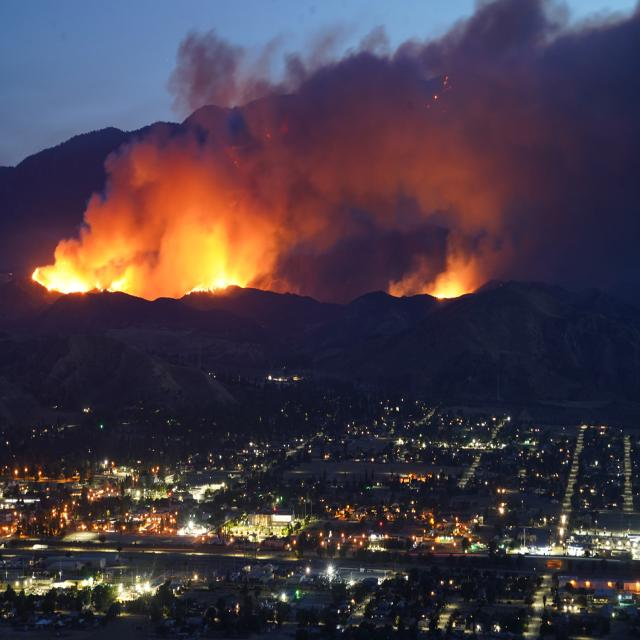Wildfire: (23, 128, 304, 333), (362, 193, 527, 321)
